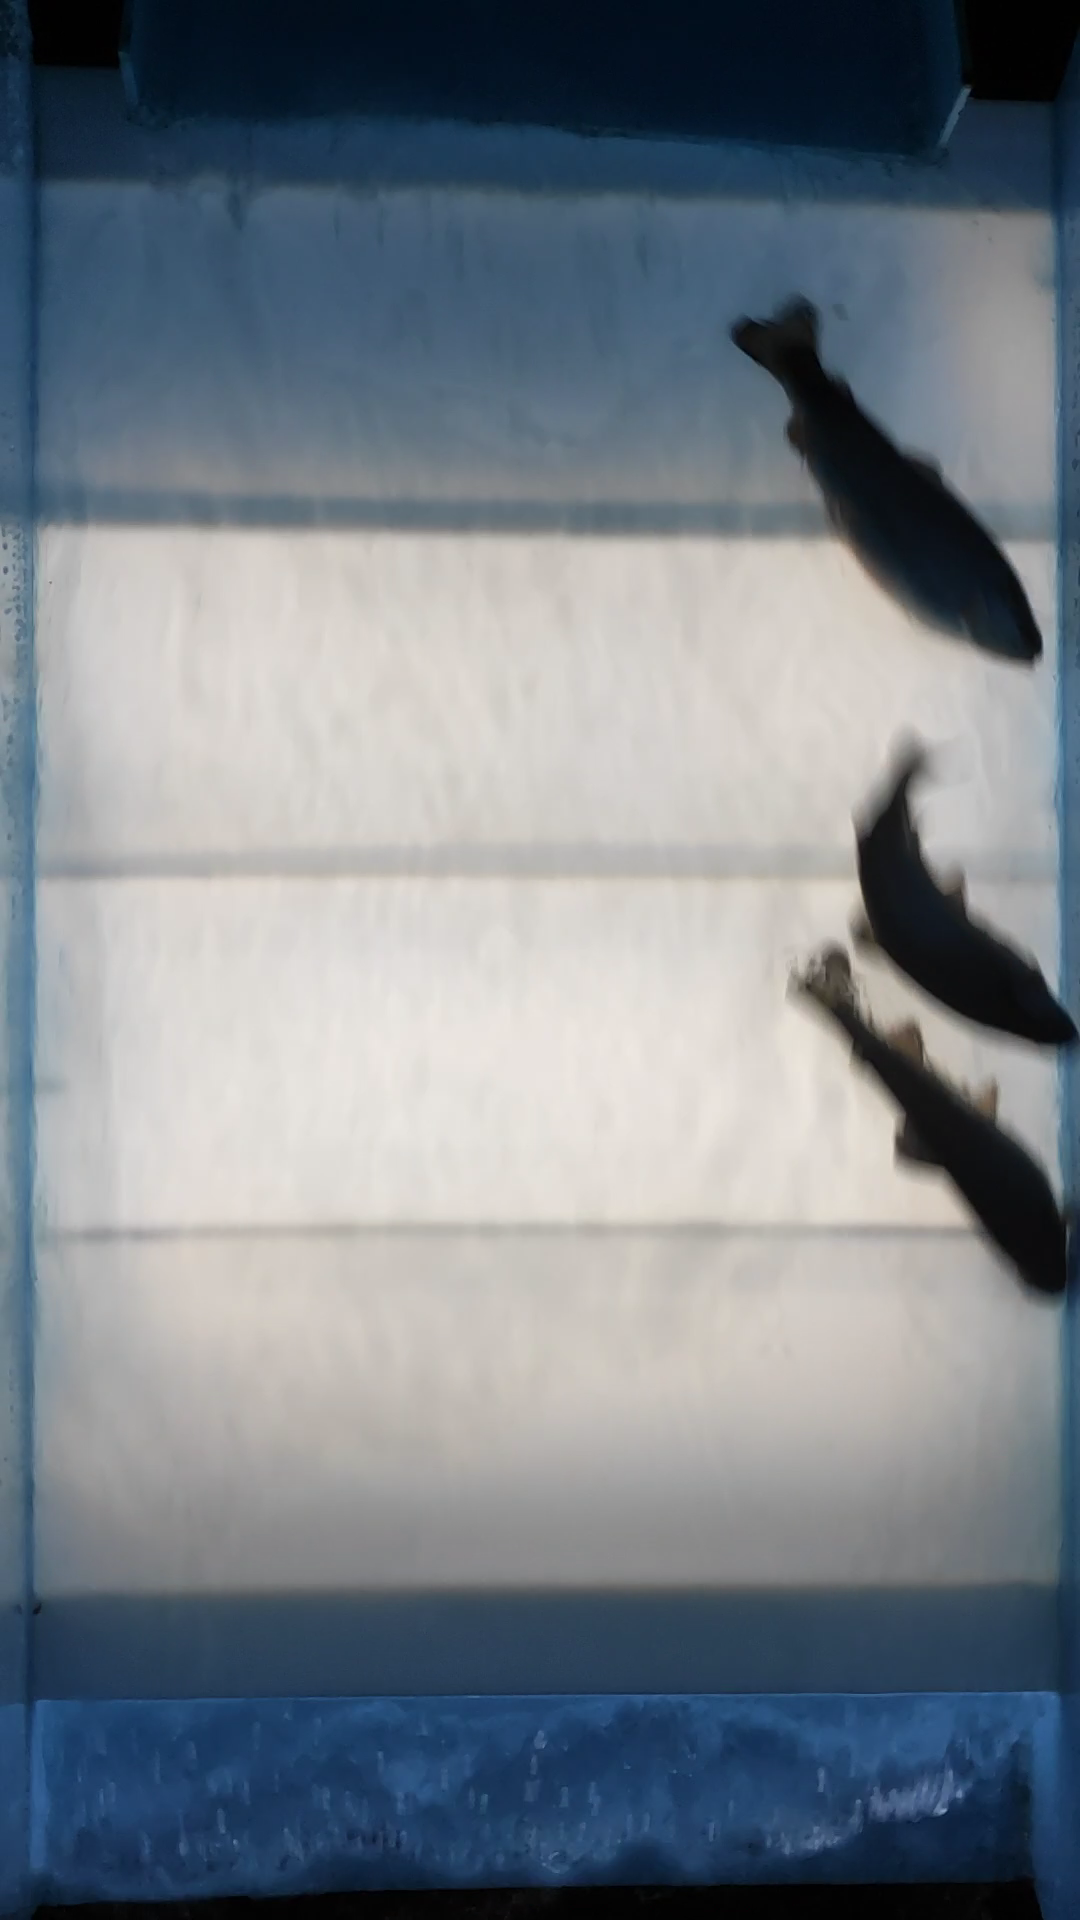fish: (719, 283, 1045, 671), (781, 942, 1080, 1322), (831, 724, 1080, 1061)
